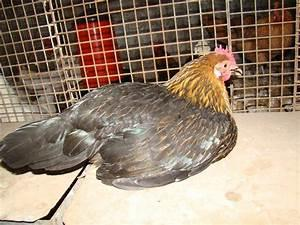hen: (0, 43, 243, 224)
